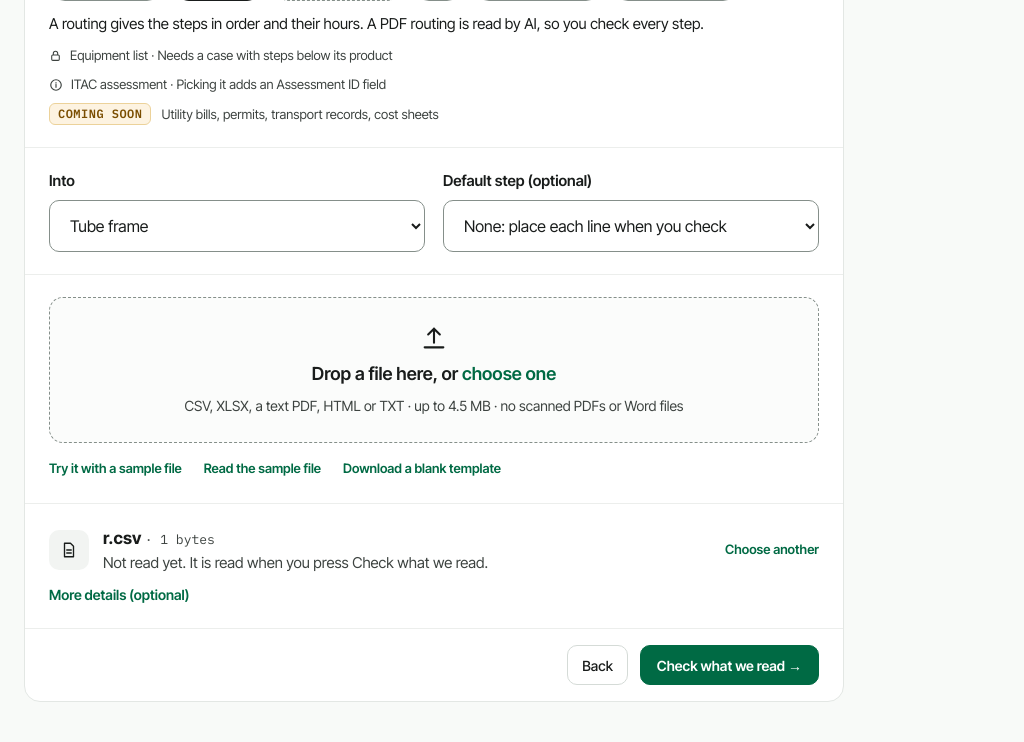
Scenario: appending waits for the case › says when the case's steps could not be read, and keeps Apply blocked
Earlier steps of the test are not shown.
(page scrolled)
Click the button "Check what we read →": x=729, y=665 [640,645,819,685]
(page scrolled)
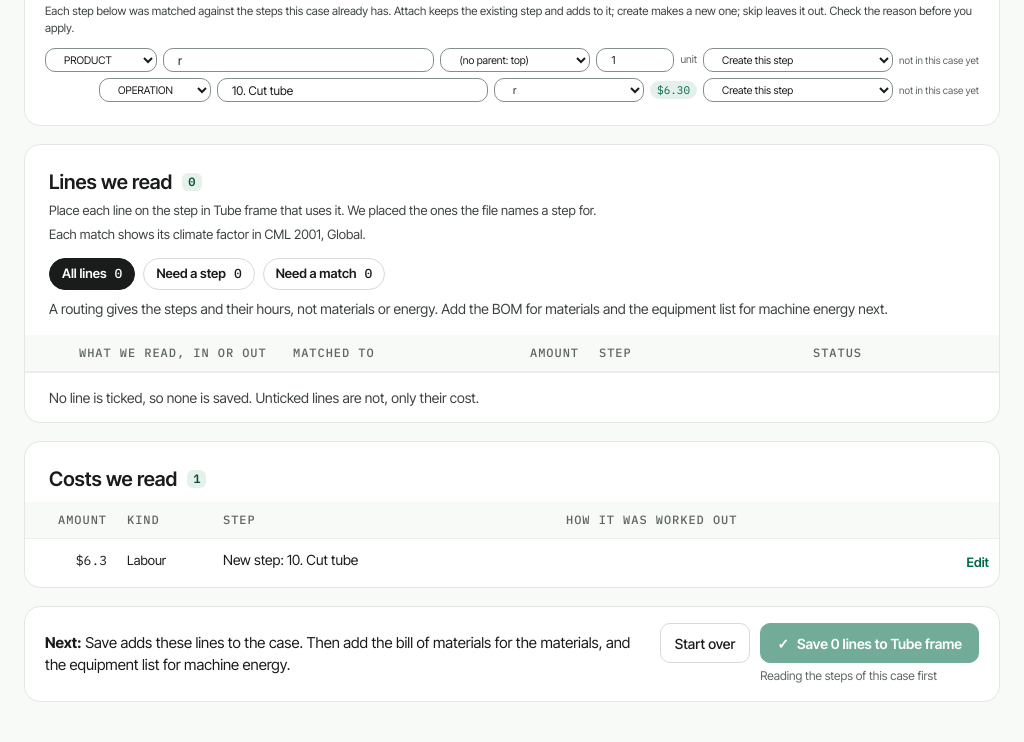
expect the button "✓ Save 0 lines to Tube frame" is disabled: met, box [760,623,979,663]
